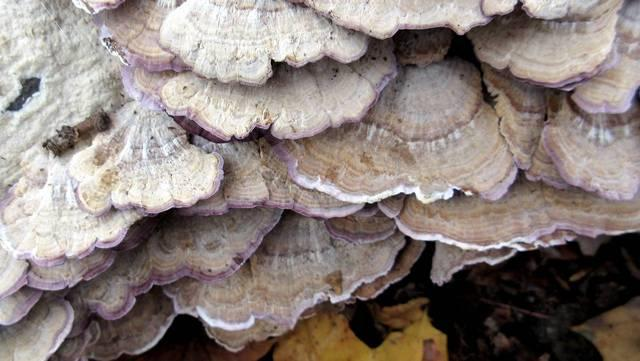Non-edible Mushroom: (1, 1, 637, 358), (65, 99, 224, 216)
